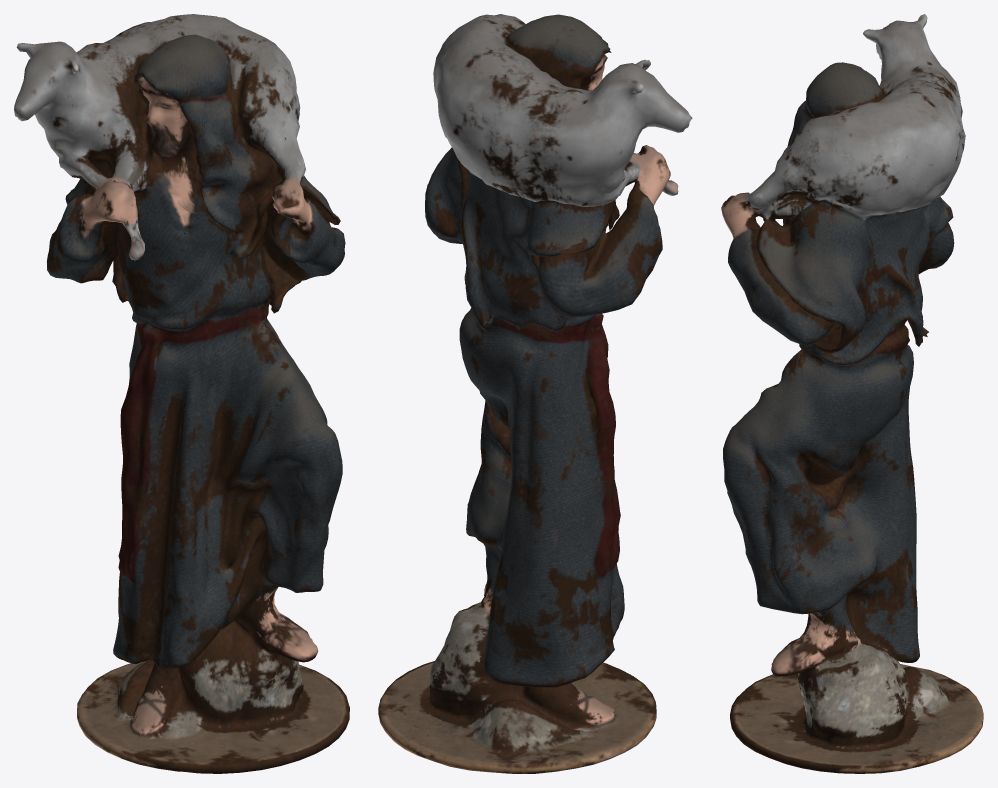
Rendered from JesusBuenPastor.fbx.
3 views of the same model, side by side, from view 1: azimuth 30°, elevation 25°; view 2: azimuth 150°, elevation 25°; view 3: azimuth 270°, elevation 25° (orthographic). The views are drawn at different scales.
Parts seen in each view (by area): view 1: Group1; view 2: Group1; view 3: Group1.
Boxes of the visible parts, left/top/right/bottom form: Group1: left=14, top=14, right=349, bottom=773; Group1: left=378, top=14, right=692, bottom=773; Group1: left=721, top=14, right=983, bottom=773.
Size of the model in its own units: 91.8 by 199 by 74.23.
